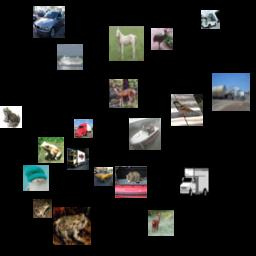automobile: (33, 6, 65, 38), (94, 167, 113, 186)
bird: (171, 94, 203, 126), (151, 28, 173, 50)
cat: (115, 166, 147, 198), (23, 165, 49, 191)
deer: (109, 79, 138, 108), (148, 210, 174, 236)
frog: (53, 207, 91, 245), (38, 137, 64, 163), (0, 106, 22, 128), (33, 199, 52, 218)
ship: (129, 118, 161, 150), (57, 44, 83, 70)
truck: (212, 73, 250, 111), (180, 167, 209, 196), (67, 148, 89, 170), (74, 119, 93, 138), (201, 10, 220, 29)
